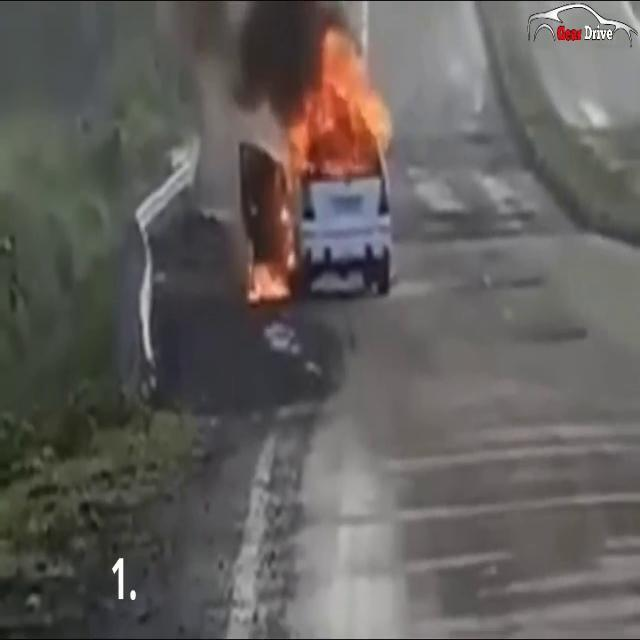Fire: (284, 16, 398, 182), (246, 120, 312, 310)
